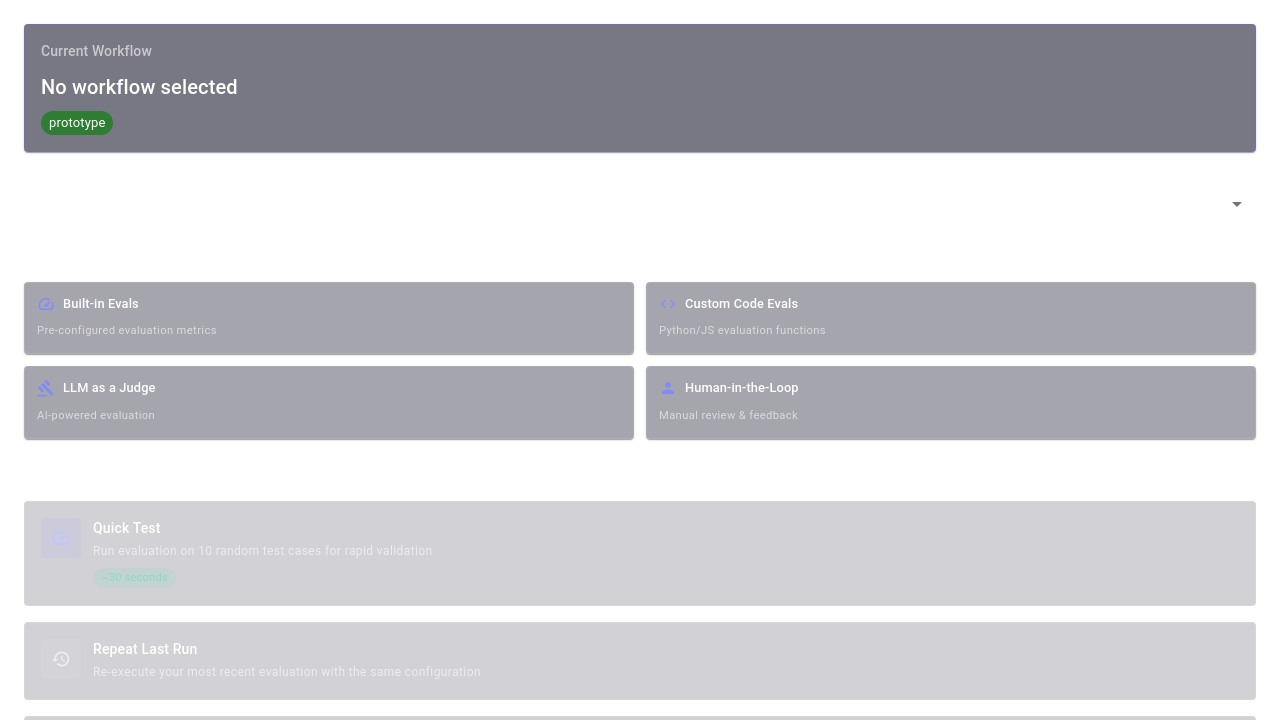
Test: RunEvaluationTab Unit Tests › Test 14: evaluation type card should show Configure button when selected
What coordinates should you click on to do the following:
click the element showing "Built-in Evals"
I would click on:
 (88, 304)
Its box is [37,295,139,313].
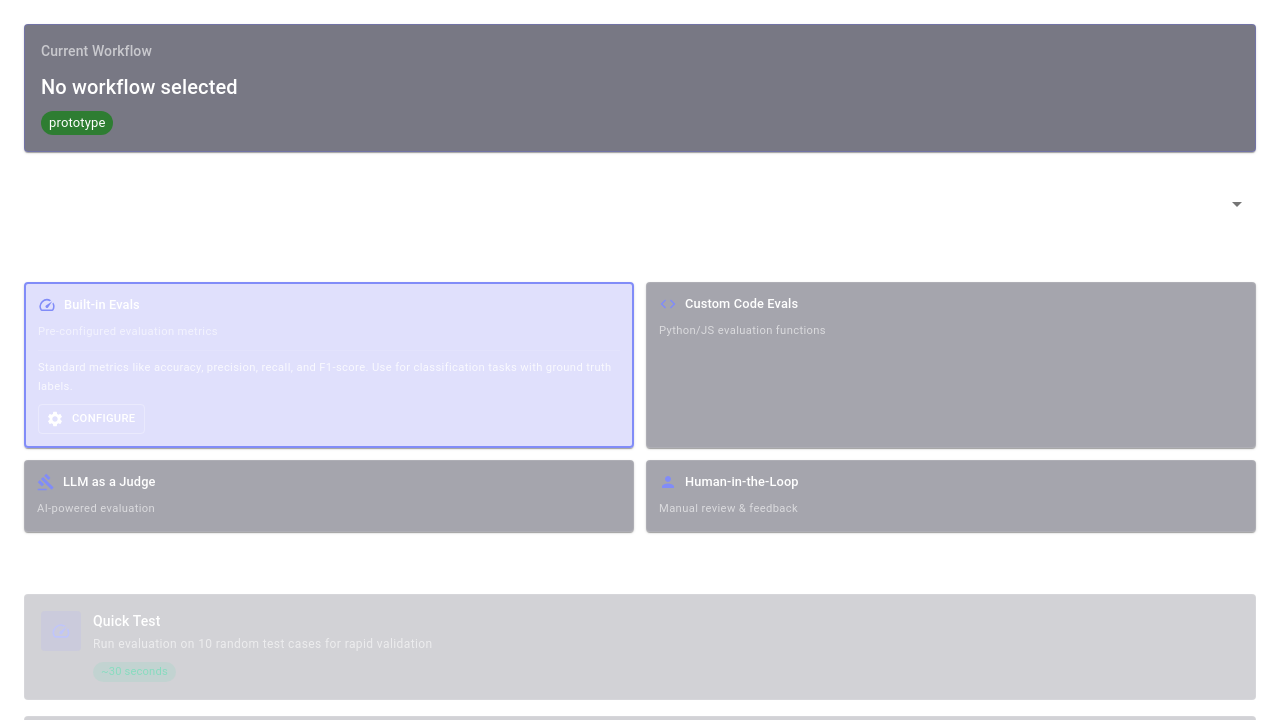
Expected: the button "Configure" is shown, [38,404,145,434]
